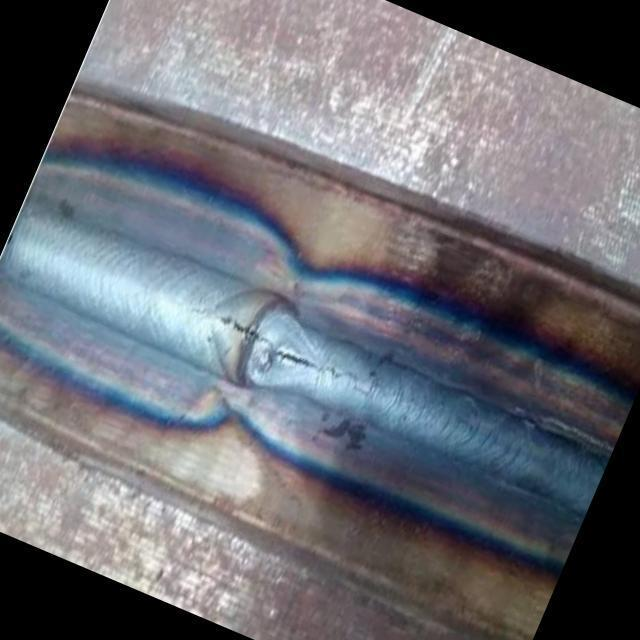defect: (216, 307, 382, 399)
